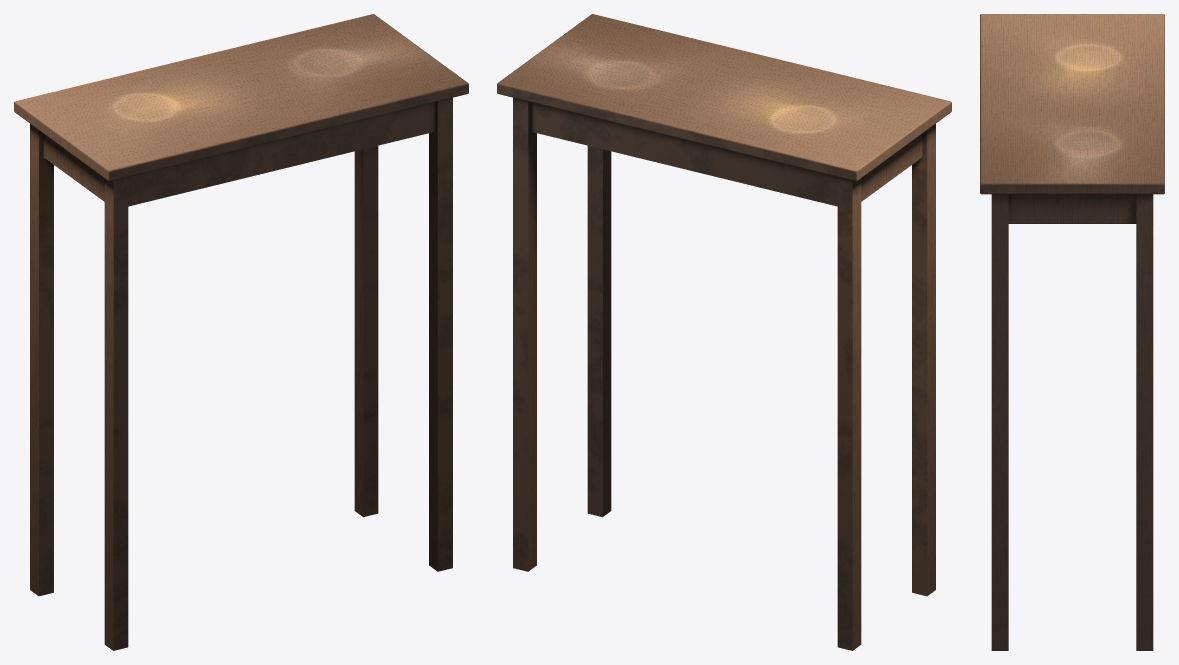
File: 811_acid.glb
3 views of the same model, side by side, from view 1: azimuth 30°, elevation 25°; view 2: azimuth 150°, elevation 25°; view 3: azimuth 270°, elevation 25° (orthographic). The views are drawn at different scales.
Parts seen in each view (by area): view 1: Table; view 2: Table; view 3: Table.
Part boxes in pixels (box(x1,y1,x2,y2)): Table: box(14, 14, 468, 650); Table: box(497, 14, 951, 650); Table: box(980, 14, 1164, 650).
Size of what is drawn, in the model's own units: 2.4 by 3.1 by 1.1.
1 material, 1 textured.
